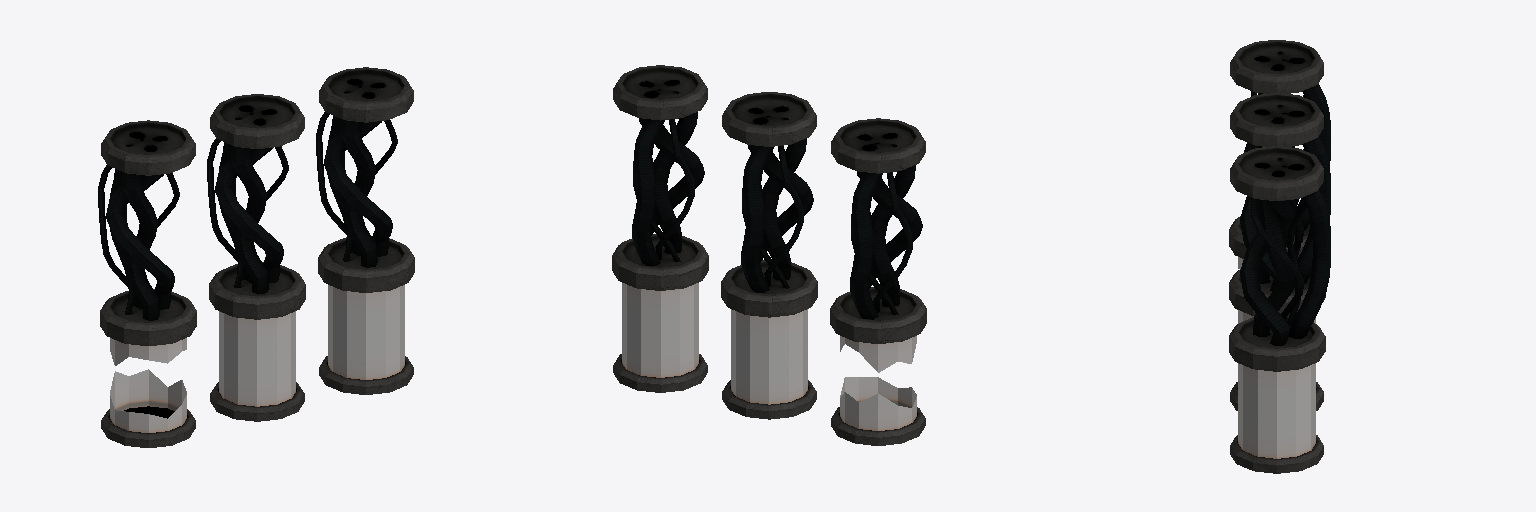
The picture shows the model from 3 angles: view 1: azimuth 30°, elevation 25°; view 2: azimuth 150°, elevation 25°; view 3: azimuth 270°, elevation 25°; orthographic projection.
Visible parts, largest first — view 1: skin; view 2: skin; view 3: skin.
Part boxes in pixels (bbox=[...]): skin: bbox=[98, 67, 414, 447]; skin: bbox=[612, 65, 926, 445]; skin: bbox=[1229, 40, 1330, 473].
Size of the model in its own units: 27.71 by 25.41 by 8.18.
Materials: 1 (1 with a texture image).